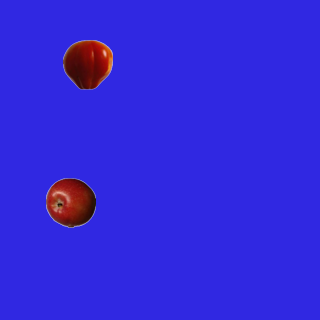Apple Braeburn: (45, 177, 95, 227)
Tomato 1: (62, 39, 112, 89)
